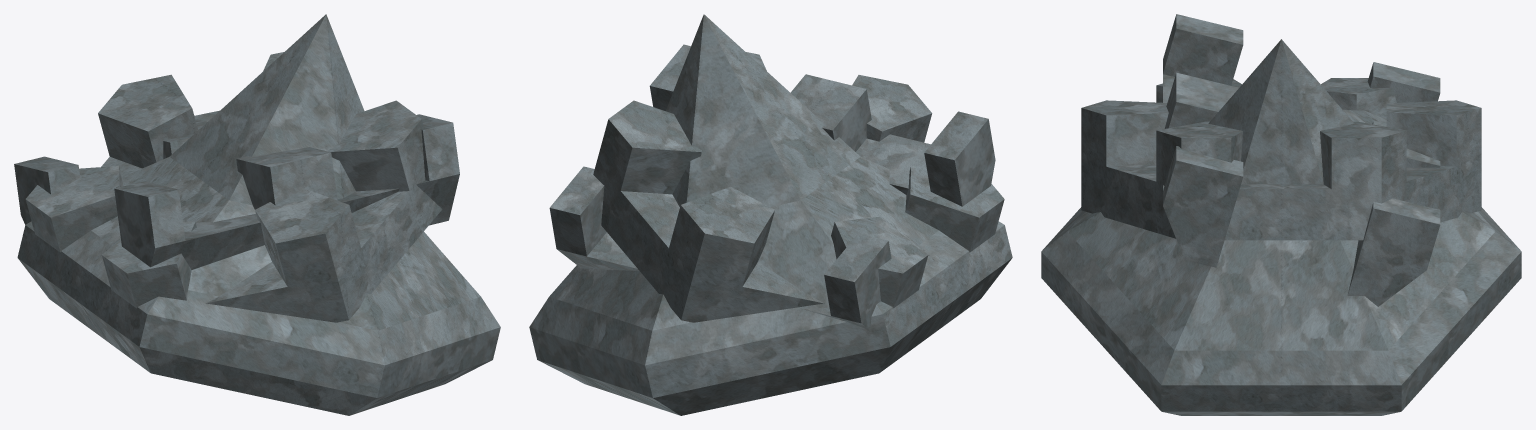
Rendered from Rubbel.obj.
The picture shows the model from 3 angles, left to right: view 1: azimuth 30°, elevation 25°; view 2: azimuth 150°, elevation 25°; view 3: azimuth 270°, elevation 25°; orthographic projection.
Visible parts, largest first — view 1: mergedBlocks; view 2: mergedBlocks; view 3: mergedBlocks.
Boxes of the visible parts, x1,y1,x2,y2 form: mergedBlocks: (14,14,500,415); mergedBlocks: (529,14,1012,415); mergedBlocks: (1041,14,1521,415).
Size of the model in its own units: 1.19 by 1.1 by 1.39.
1 material, 1 textured.
